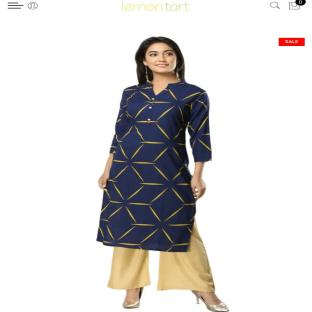Human: (97, 37, 228, 312)
